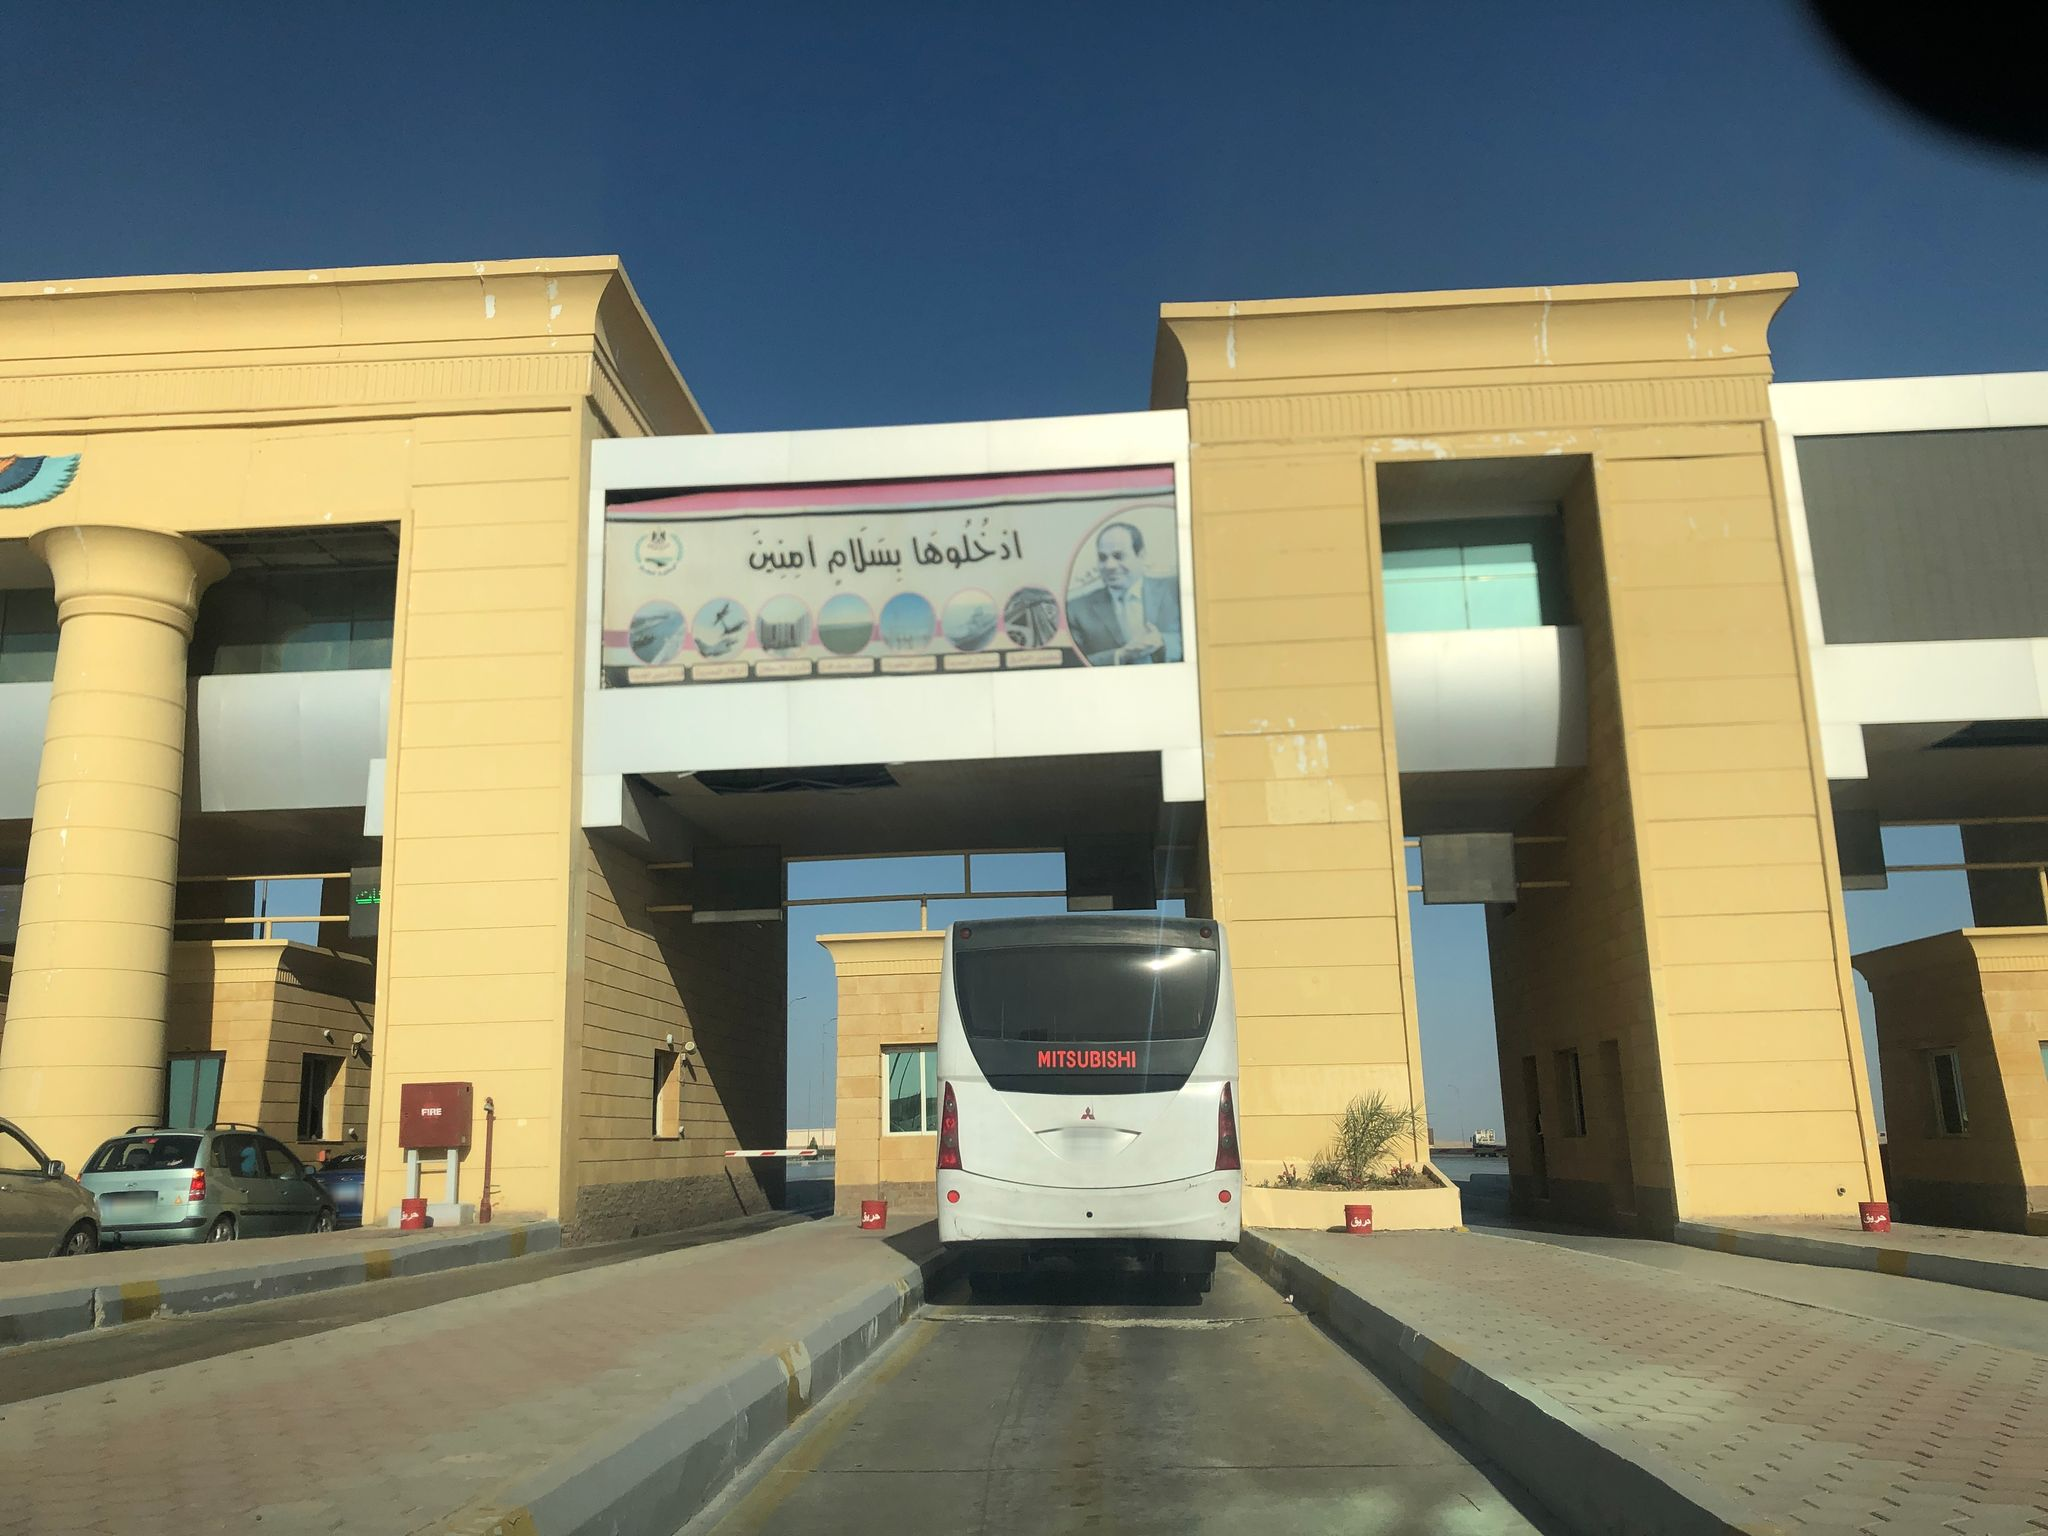bus: (929, 913, 1247, 1302)
car: (76, 1118, 343, 1254), (0, 1112, 102, 1255), (306, 1149, 369, 1226)
